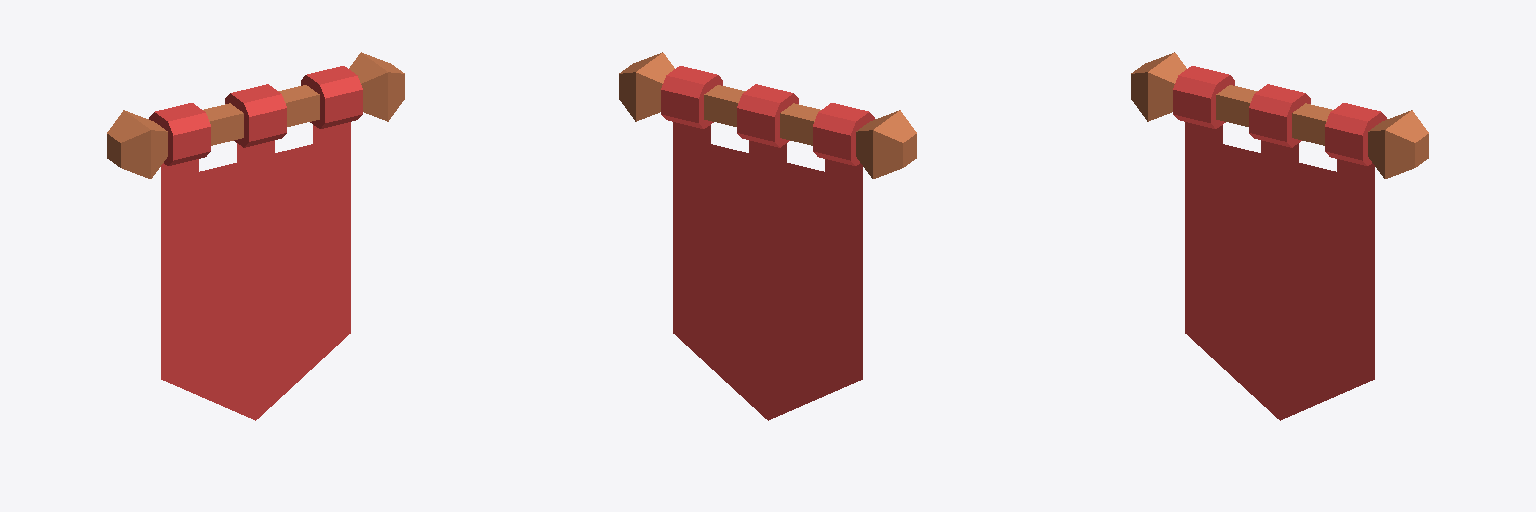
File: banner.obj
The picture shows the model from 3 angles: view 1: azimuth 30°, elevation 25°; view 2: azimuth 150°, elevation 25°; view 3: azimuth 330°, elevation 25°; orthographic projection.
Parts seen in each view (by area): view 1: banner; view 2: banner; view 3: banner.
Boxes of the visible parts, x1=… form: banner: x1=107, y1=52, x2=404, y2=420; banner: x1=619, y1=52, x2=916, y2=420; banner: x1=1131, y1=52, x2=1428, y2=420.
Bounding box in the file's own units: 0.6 × 0.6644 × 0.1.